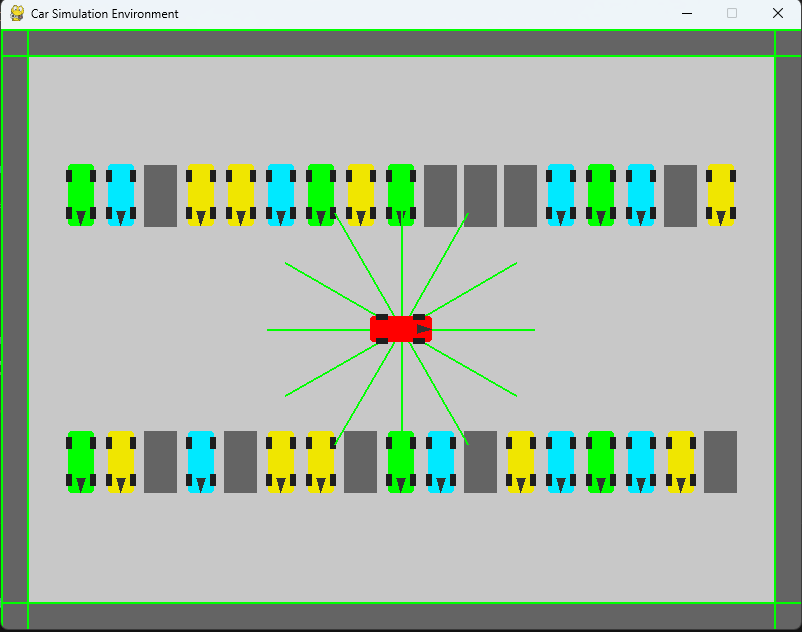ControlledCar: (364, 314, 435, 348)
ParkedCar: (703, 154, 743, 230), (542, 158, 581, 231), (182, 425, 219, 498), (623, 425, 660, 496), (422, 424, 457, 499), (62, 426, 100, 494), (663, 428, 702, 494), (623, 154, 658, 227), (104, 162, 139, 234), (263, 426, 299, 496), (301, 425, 336, 497), (381, 426, 415, 497), (502, 428, 538, 495), (63, 160, 99, 226), (303, 161, 338, 227), (264, 159, 296, 231), (382, 162, 418, 225), (182, 160, 215, 228), (345, 160, 377, 229), (106, 428, 137, 499), (225, 161, 258, 227), (582, 429, 616, 492), (586, 163, 618, 229), (545, 431, 577, 495)
ParkingSpot: (457, 424, 501, 504), (417, 162, 459, 233), (341, 424, 381, 497), (659, 159, 697, 234), (502, 158, 539, 231), (139, 426, 177, 496), (221, 425, 259, 495), (703, 422, 739, 495), (460, 160, 497, 230), (142, 161, 176, 231)
